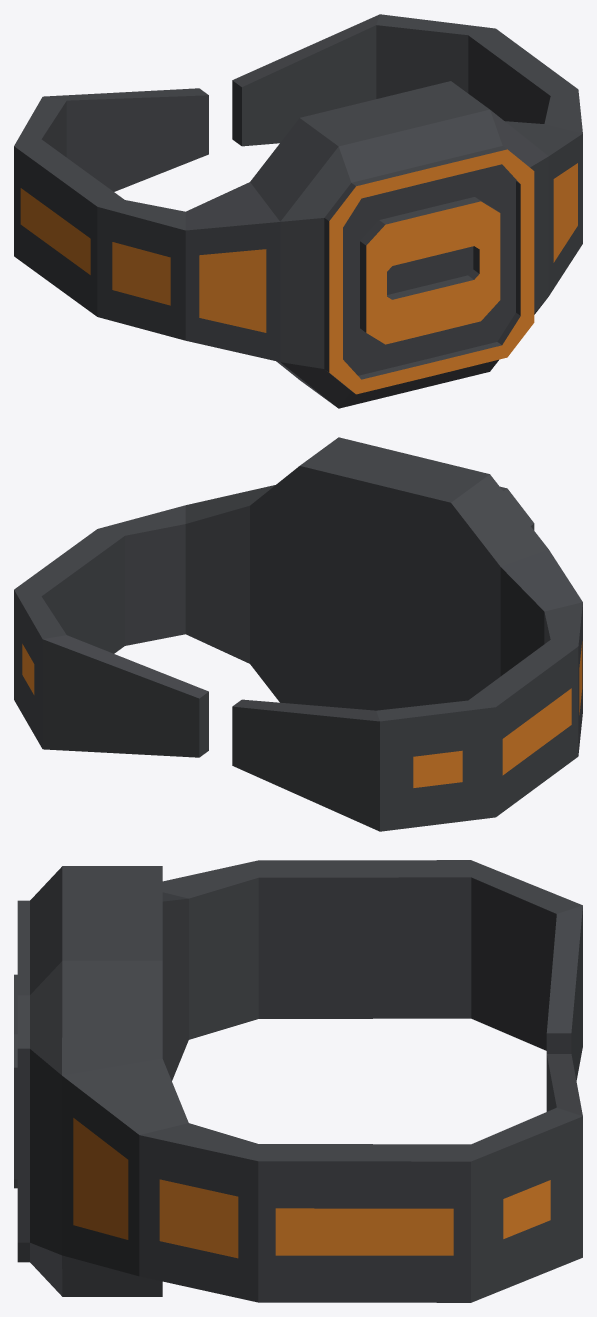
Rendered from Champion belt.fbx.
3 renders of one model, top to bottom at view 1: azimuth 30°, elevation 25°; view 2: azimuth 150°, elevation 25°; view 3: azimuth 270°, elevation 25°, orthographic. The views are drawn at different scales.
Parts seen in each view (by area): view 1: Champion belt; view 2: Champion belt; view 3: Champion belt.
Part boxes in pixels (box(x1,y1,x2,y2)): Champion belt: box(14, 14, 582, 408); Champion belt: box(14, 437, 582, 831); Champion belt: box(14, 860, 582, 1302).
Bounding box in the file's own units: 57.69 × 30 × 46.02.
